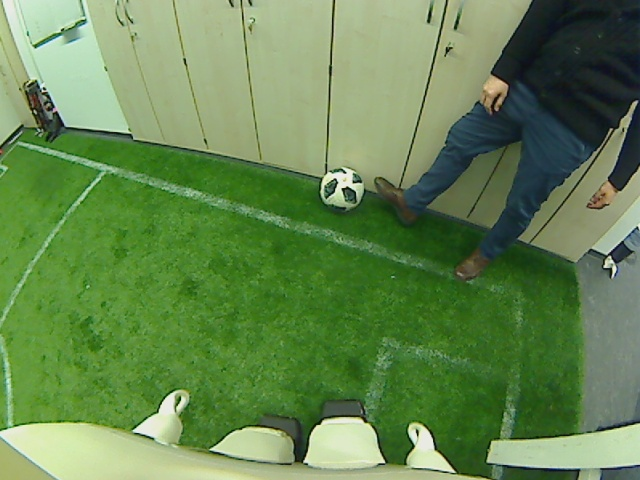ball: (319, 165, 365, 210)
